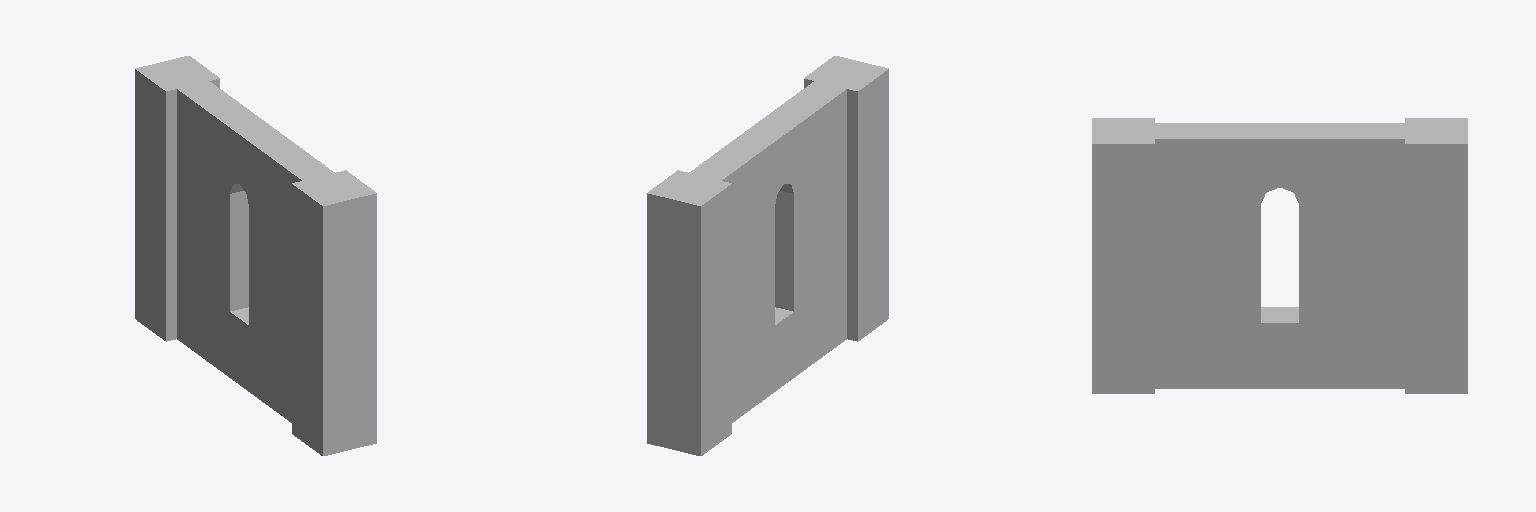
The model's file is Grey_Window_Narrow_01.obj.
3 renders of one model, left to right at view 1: azimuth 30°, elevation 25°; view 2: azimuth 150°, elevation 25°; view 3: azimuth 270°, elevation 25°, orthographic.
Parts seen in each view (by area): view 1: Mesh1 Grey_Window_Narrow Model; view 2: Mesh1 Grey_Window_Narrow Model; view 3: Mesh1 Grey_Window_Narrow Model.
Part boxes in pixels (left/top/right/bottom): Mesh1 Grey_Window_Narrow Model: left=135, top=56, right=376, bottom=455; Mesh1 Grey_Window_Narrow Model: left=647, top=56, right=888, bottom=455; Mesh1 Grey_Window_Narrow Model: left=1092, top=118, right=1467, bottom=393.
Size of the model in its own units: 0.5 by 2.2 by 3.